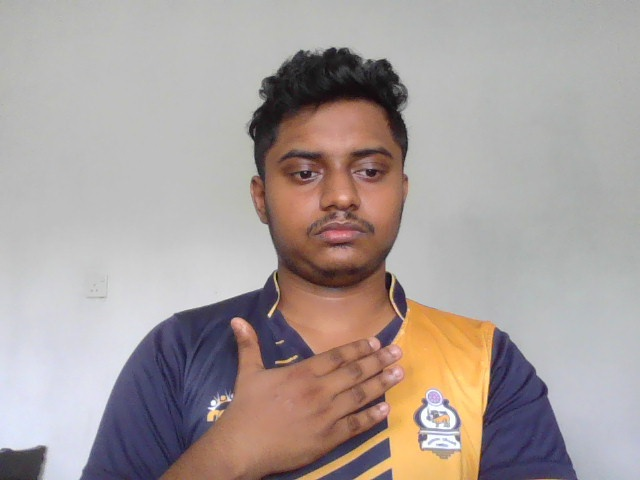Please: (223, 314, 406, 475)
